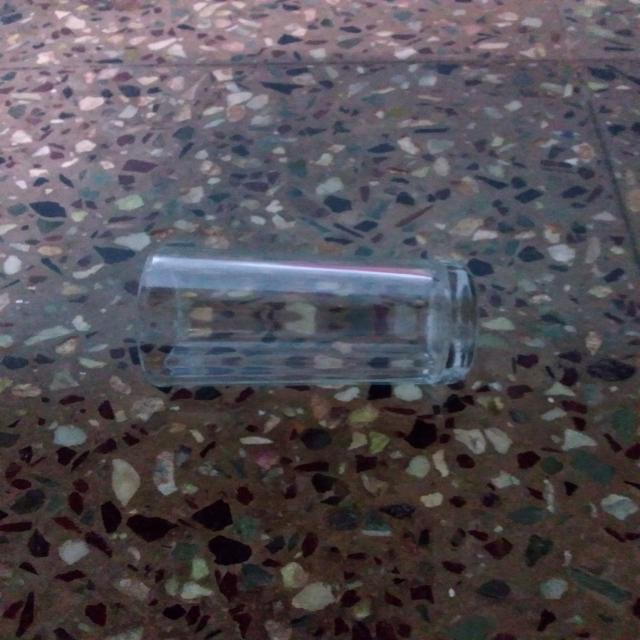Glass: (132, 242, 484, 391)
